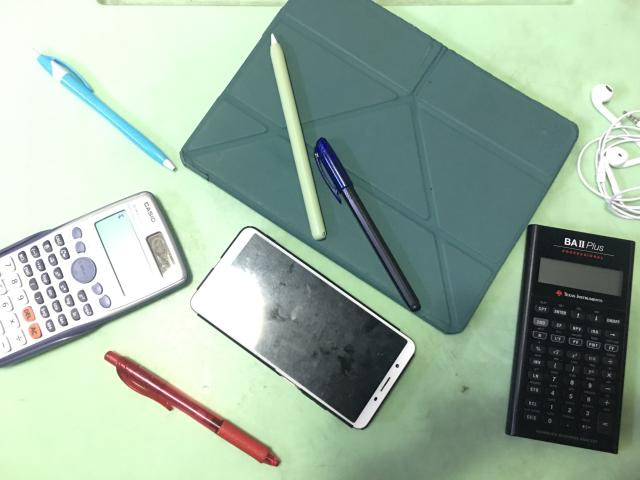Mobile phone: (191, 228, 415, 429)
Pen: (105, 351, 279, 466), (314, 138, 420, 311), (36, 53, 175, 171)
wire: (578, 84, 640, 220)
